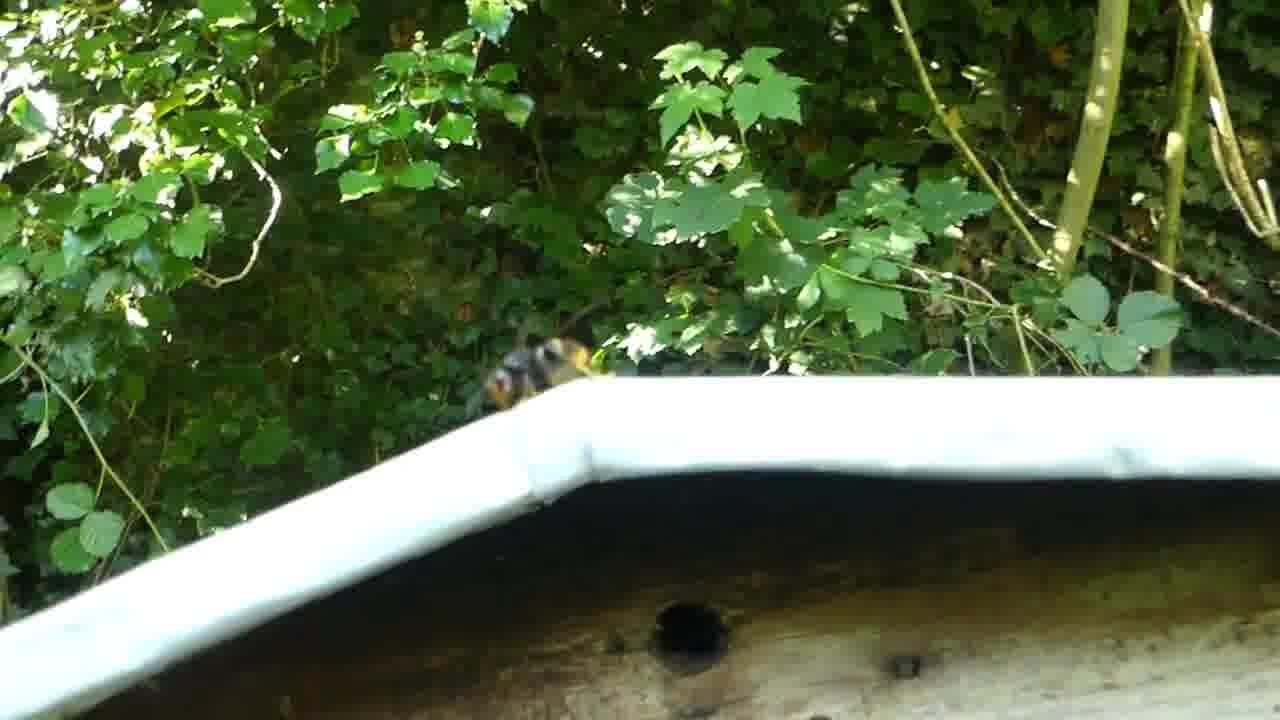hornet: (479, 337, 623, 406)
